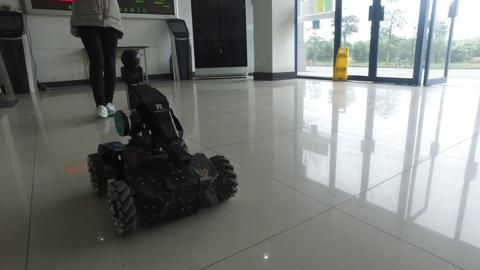chariot: (75, 42, 242, 238)
